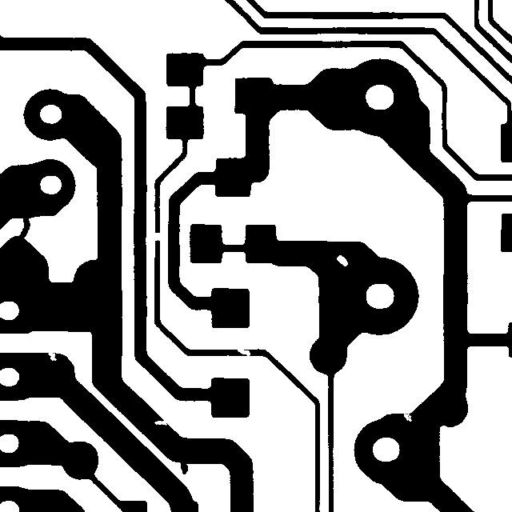mousebite: (395, 401, 419, 429), (40, 342, 64, 368), (146, 413, 175, 433)
open: (230, 340, 258, 364), (142, 224, 169, 248)
pin-hole: (329, 247, 355, 274)
short: (10, 209, 38, 250)
spur: (172, 452, 195, 482)
